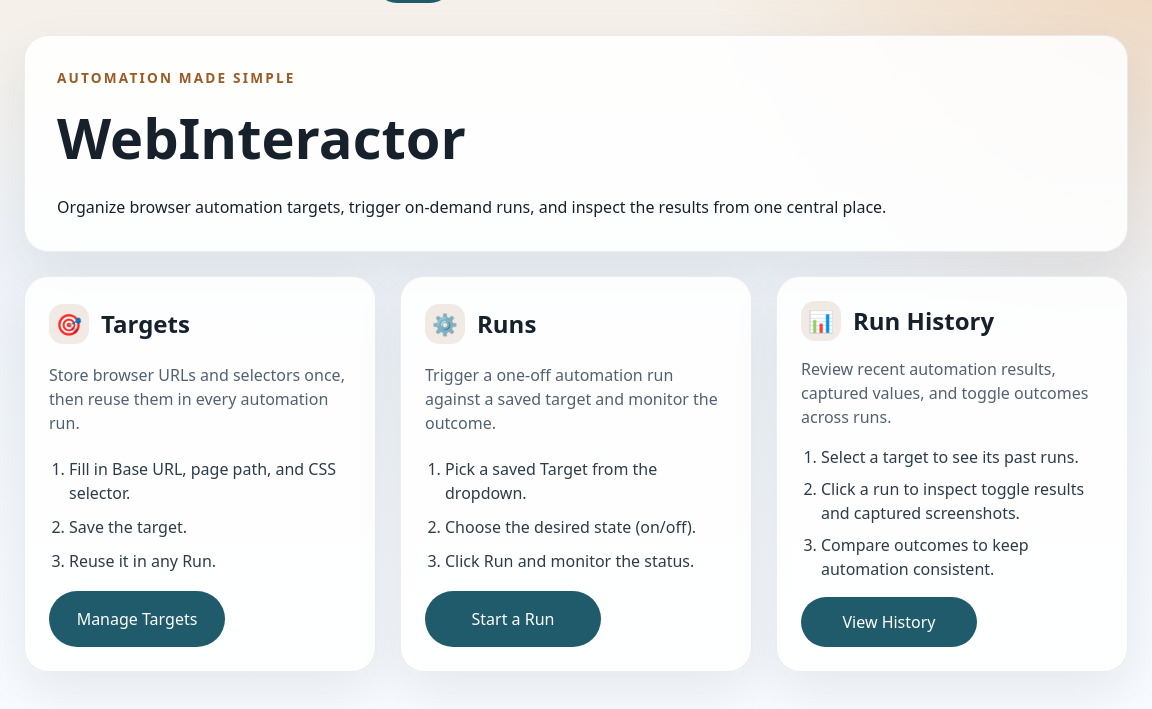
LandingPage › navigates to the relevant pages from each landing card CTA
The image size is (1152, 709).
(page scrolled)
What coordinates should you click on to do the following:
click the link "Manage Targets"
I would click on:
 (137, 619)
Its box is [49,591,225,647].
(page scrolled)
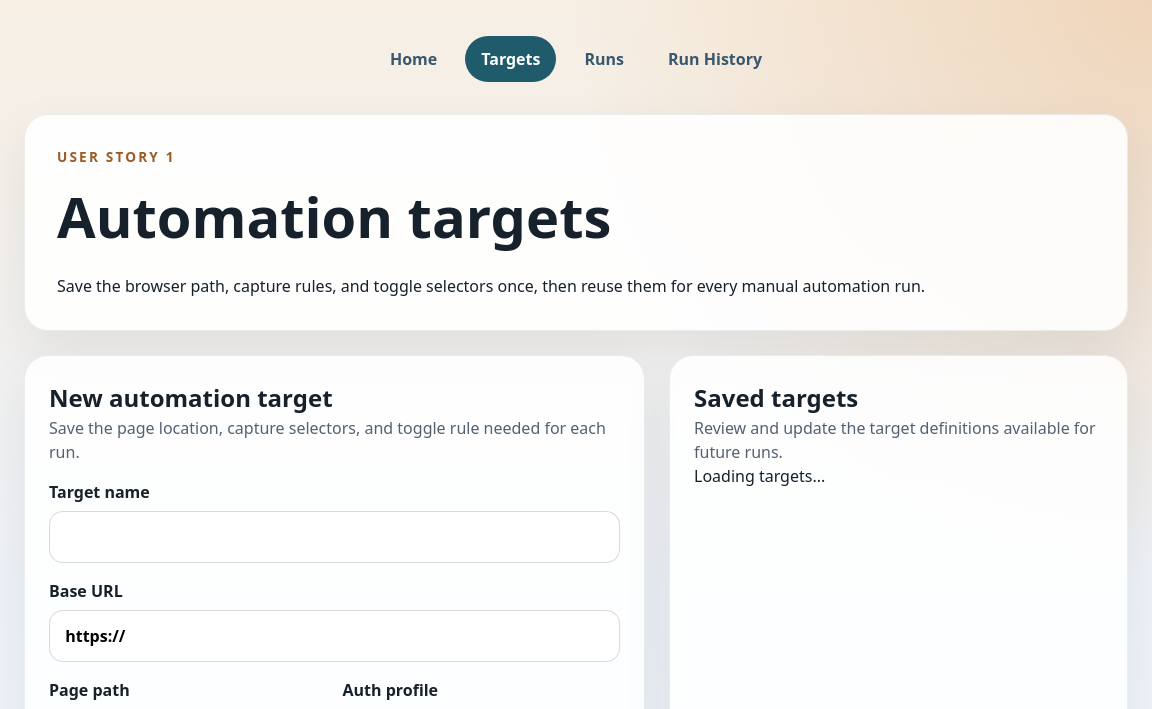
Expected: the heading "Automation targets" is shown, [57,178,611,254]
What coordinates should you click on to do the following:
click the link "Home"
I would click on:
 (414, 59)
Its box is [390,48,437,70].
(page scrolled)
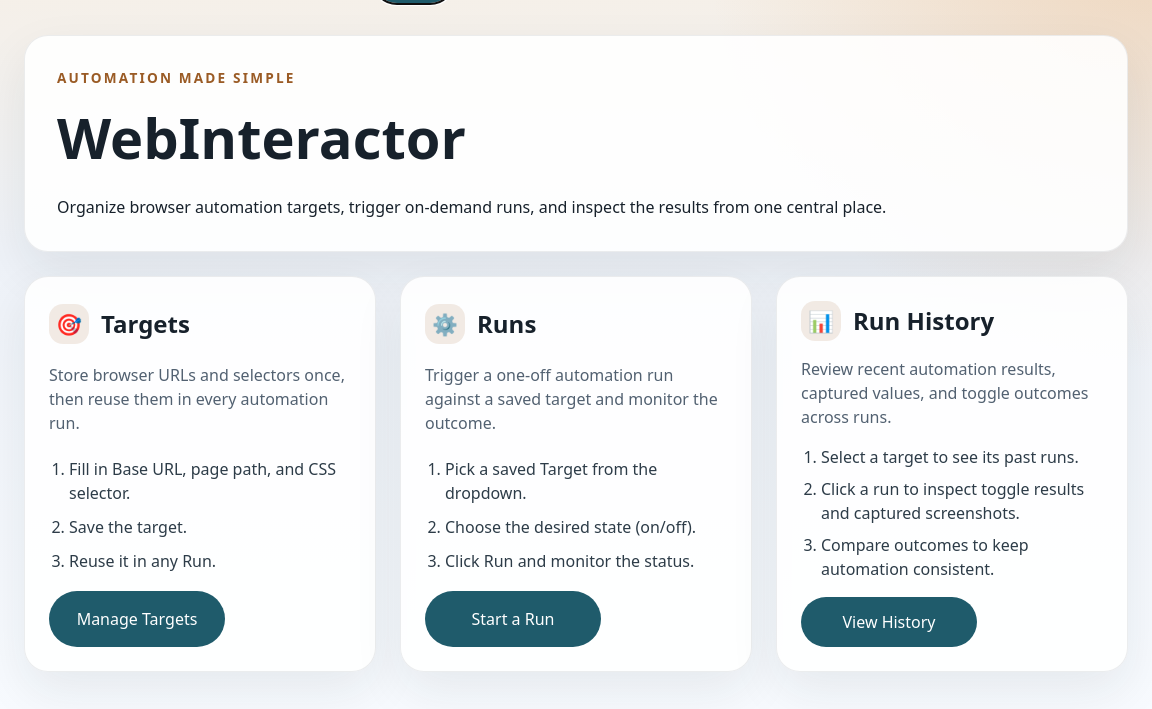
What coordinates should you click on to do the following:
click the link "Start a Run"
I would click on:
 (513, 619)
Its box is [425,591,601,647].
(page scrolled)
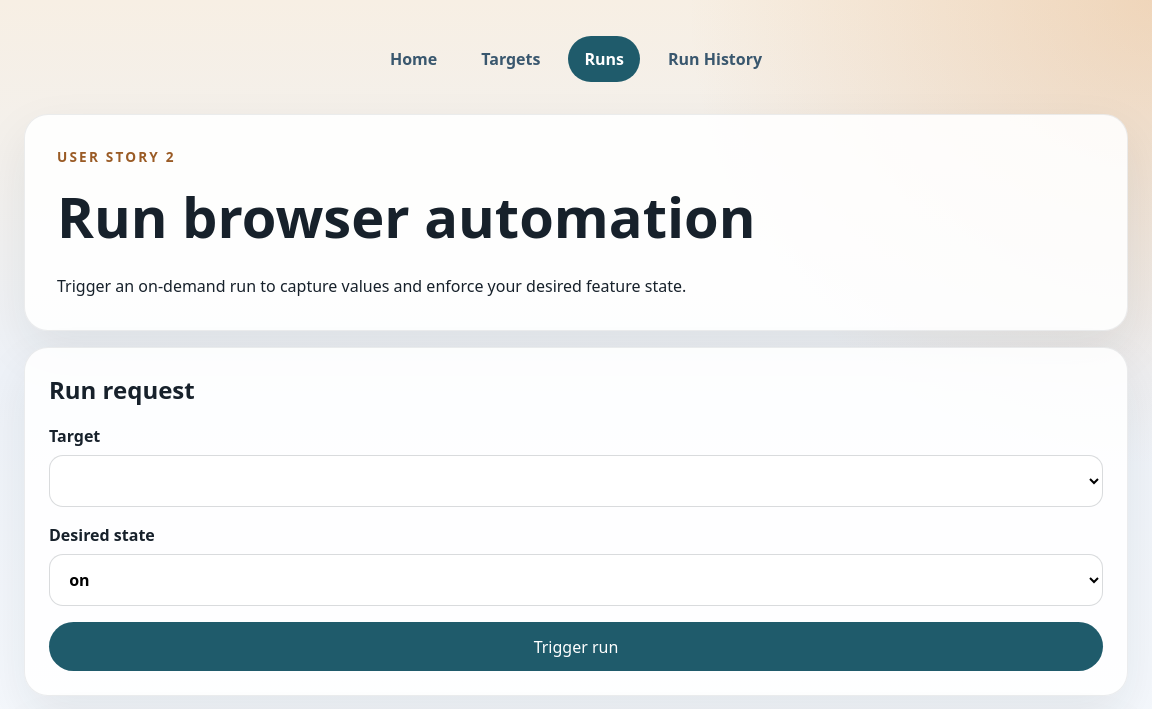
Expected: the heading "Run browser automation" is shown, [57,178,756,254]
What coordinates should you click on to do the following:
click the link "Home"
I would click on:
 (414, 59)
Its box is [390,48,437,70].
(page scrolled)
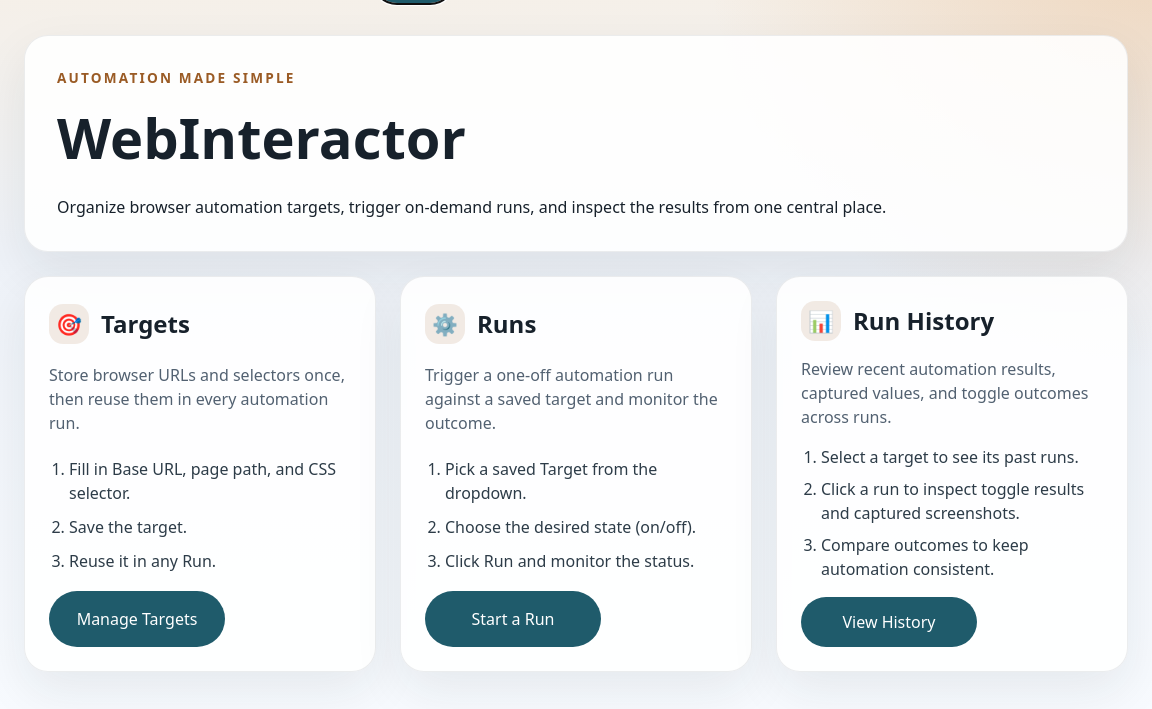
What coordinates should you click on to do the following:
click the link "View History"
I would click on:
 (889, 622)
Its box is [801,597,977,647].
(page scrolled)
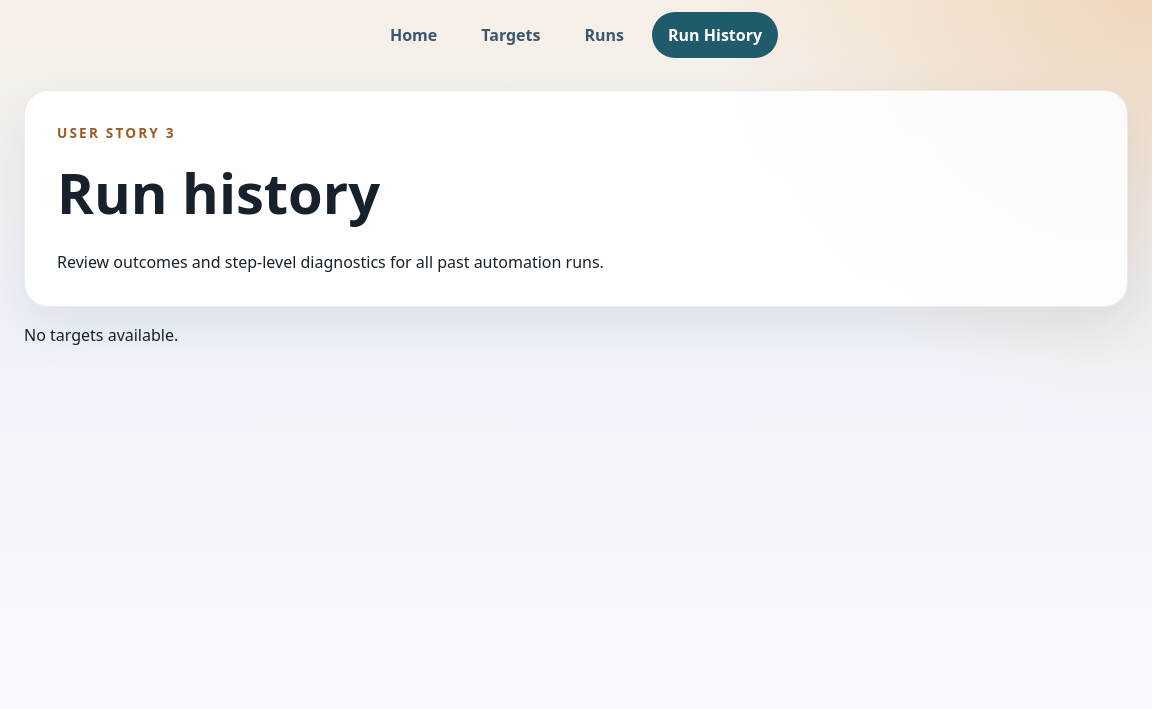
Expected: the heading "Run history" is shown, [57,154,380,230]
